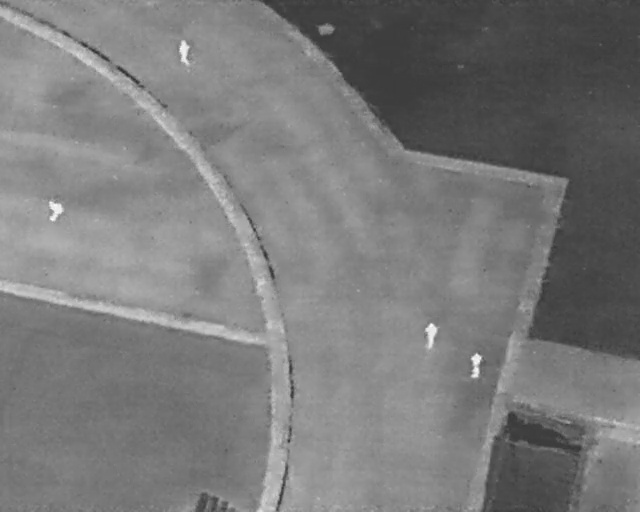Person: (46, 198, 64, 222), (424, 320, 437, 351), (177, 38, 191, 64), (470, 352, 482, 380)
